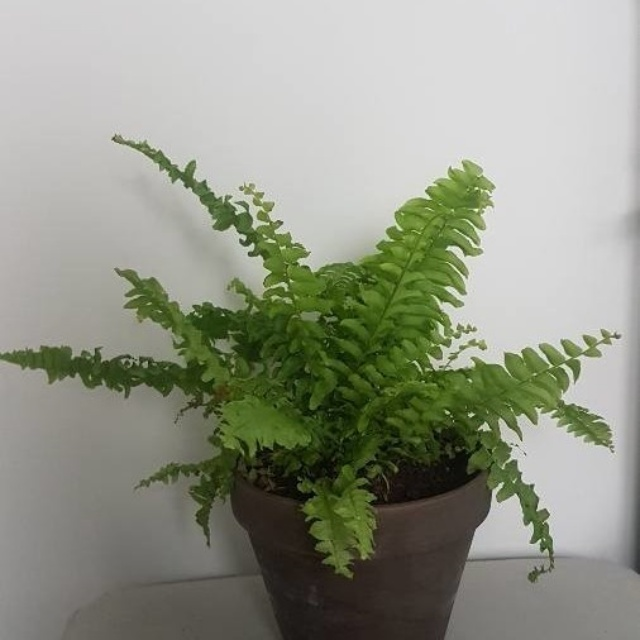obstacle: (13, 109, 617, 629)
